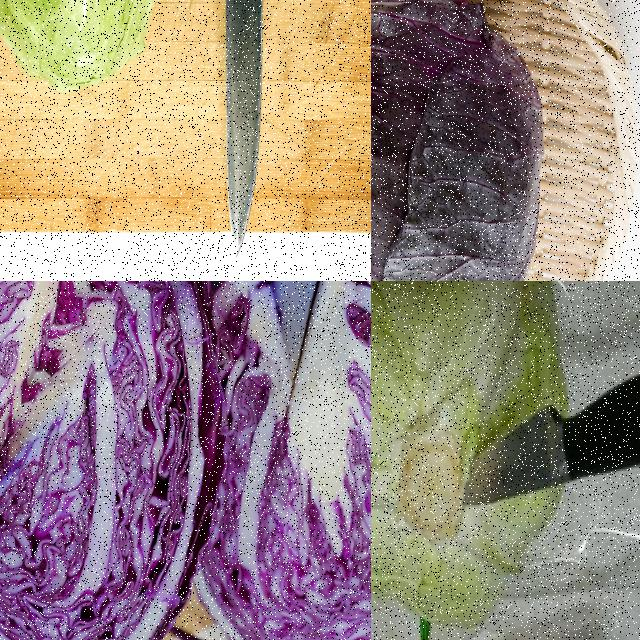cabbage: (0, 281, 227, 639), (371, 281, 573, 639), (187, 281, 370, 639), (371, 0, 544, 280), (0, 0, 175, 96)
